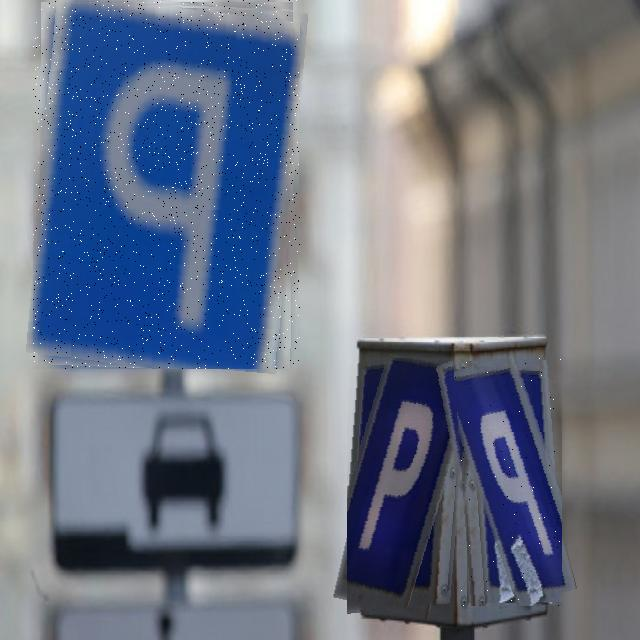parking: (33, 0, 300, 369), (347, 358, 471, 616), (453, 358, 562, 606)
